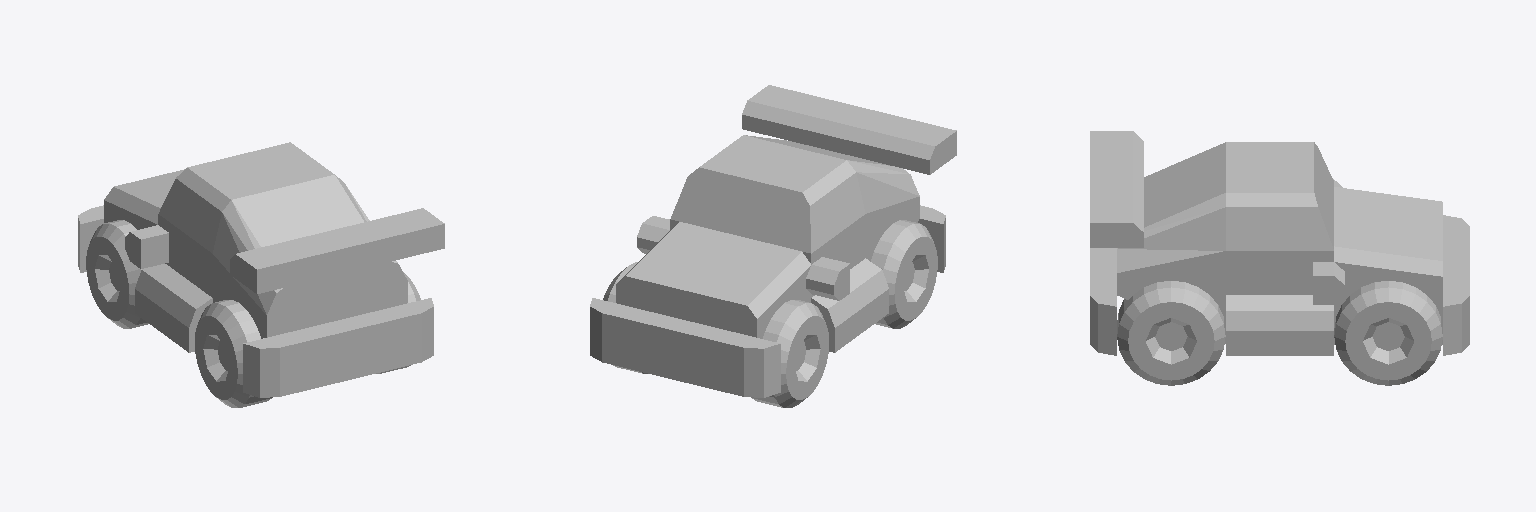
File: vehicle-racer.obj
3 renders of one model, left to right at view 1: azimuth 30°, elevation 25°; view 2: azimuth 150°, elevation 25°; view 3: azimuth 270°, elevation 25°, orthographic.
Visible parts, largest first — view 1: vehicle-racer, wheel-bl, wheel-fl; view 2: vehicle-racer, wheel-bl, wheel-fl; view 3: vehicle-racer, wheel-br, wheel-fr.
Boxes of the visible parts, box(x1,y1,x2,y2) form: vehicle-racer: box(78, 142, 444, 397); wheel-bl: box(195, 300, 272, 407); wheel-fl: box(86, 220, 148, 328); vehicle-racer: box(590, 85, 956, 397); wheel-bl: box(871, 220, 937, 328); wheel-fl: box(751, 300, 828, 407); vehicle-racer: box(1090, 131, 1469, 355); wheel-br: box(1117, 281, 1225, 385); wheel-fr: box(1334, 281, 1442, 385).
Size of the model in its own units: 0.525 by 0.45 by 0.875.